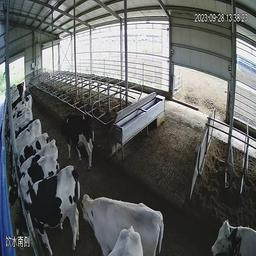cow: (13, 168, 88, 248), (182, 195, 255, 254), (73, 162, 126, 226), (7, 142, 58, 189), (104, 217, 152, 254), (57, 104, 85, 161), (6, 123, 46, 155), (6, 107, 36, 131), (4, 91, 31, 113), (6, 81, 26, 100)
